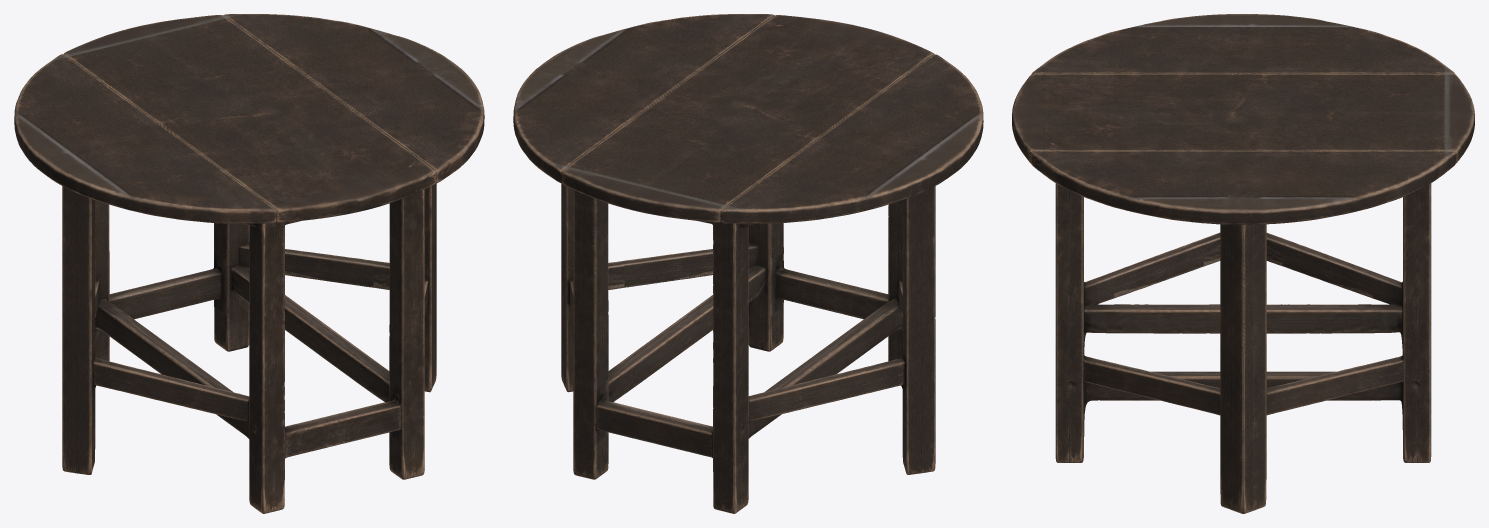
The model's file is Meshy_AI_Rustic_Round_Table_1015061523_texture.fbx.
The picture shows the model from 3 angles, left to right: view 1: azimuth 30°, elevation 25°; view 2: azimuth 150°, elevation 25°; view 3: azimuth 270°, elevation 25°; orthographic projection.
Parts seen in each view (by area): view 1: Mesh_0; view 2: Mesh_0; view 3: Mesh_0.
Boxes of the visible parts, left/top/right/bottom form: Mesh_0: left=14, top=14, right=484, bottom=513; Mesh_0: left=513, top=14, right=983, bottom=513; Mesh_0: left=1012, top=14, right=1474, bottom=513.
Size of the model in its own units: 190 by 139 by 187.
Materials: 1 (1 with a texture image).
